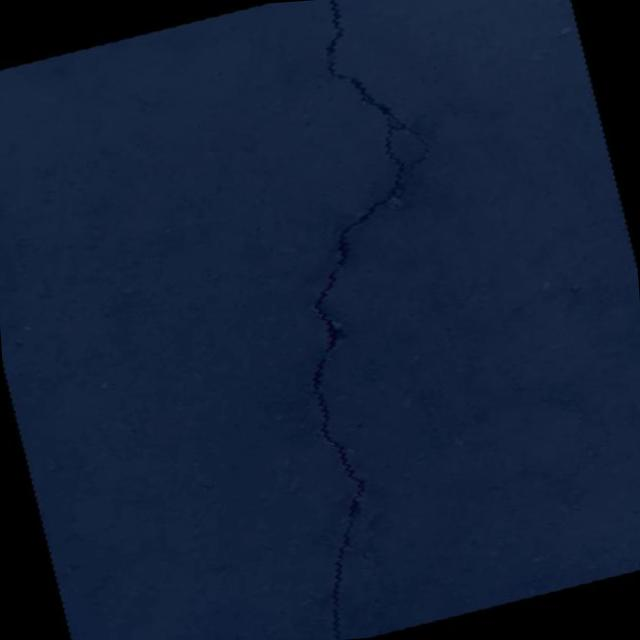crack: (179, 0, 544, 640)
